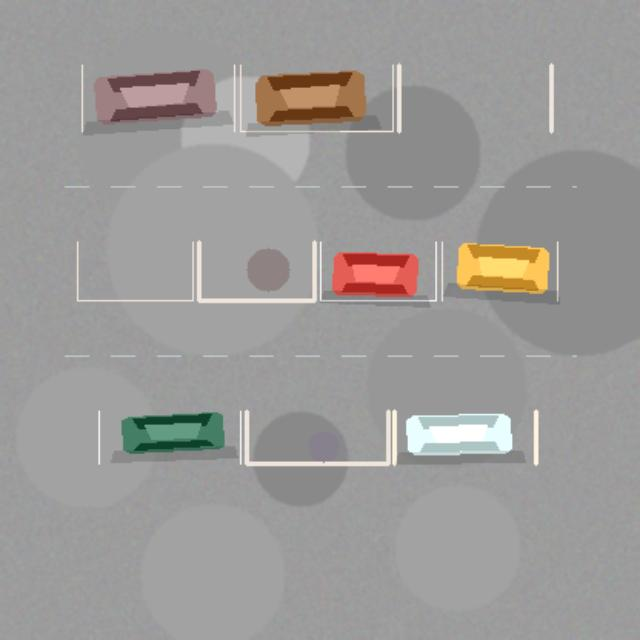space-empty: (398, 65, 551, 131), (246, 411, 388, 463), (198, 242, 314, 300), (77, 242, 192, 300)
space-occupied: (82, 65, 234, 131), (240, 65, 392, 131), (98, 411, 240, 463), (394, 411, 535, 463), (320, 242, 435, 300), (442, 242, 557, 300)
